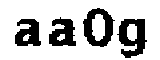0: (80, 6, 115, 47)
a: (9, 18, 44, 48), (46, 17, 77, 50)
g: (116, 15, 150, 60)
